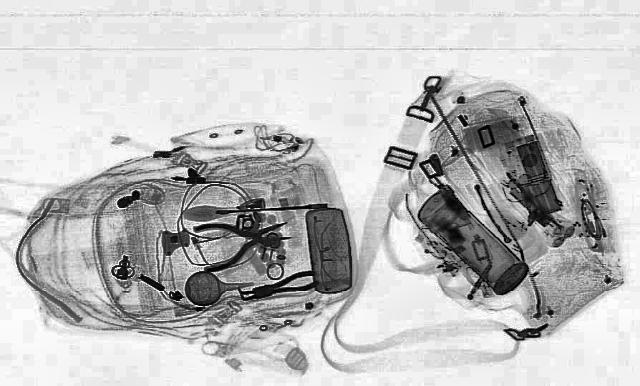Pliers: (180, 211, 306, 272), (232, 270, 324, 304)
